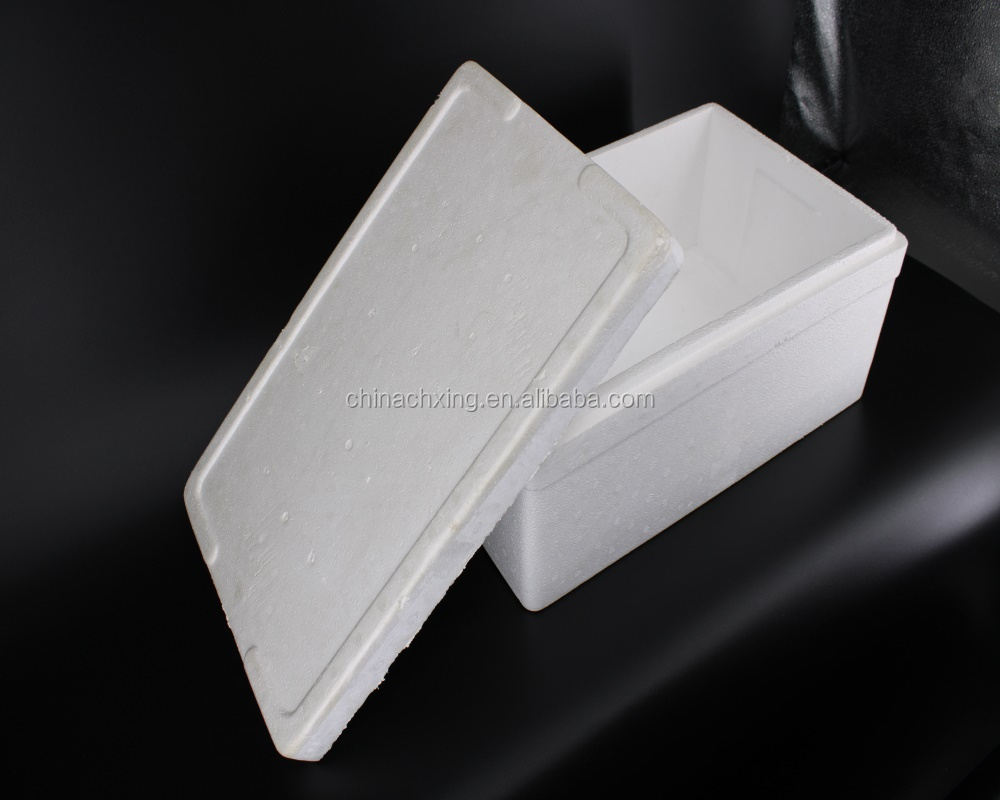Boxes: (485, 104, 906, 610)
